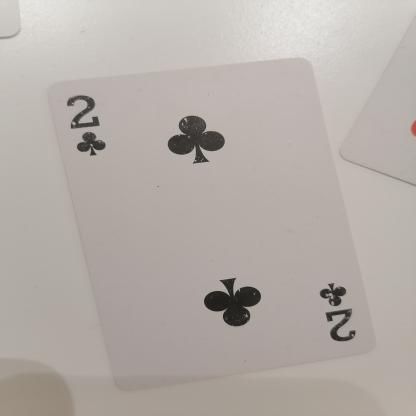2C: (53, 95, 127, 164), (306, 284, 376, 350)
